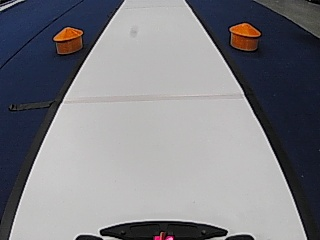granary: (228, 20, 261, 51), (52, 25, 83, 54)
